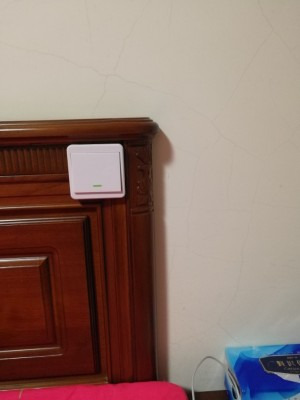switch: (67, 147, 123, 198)
